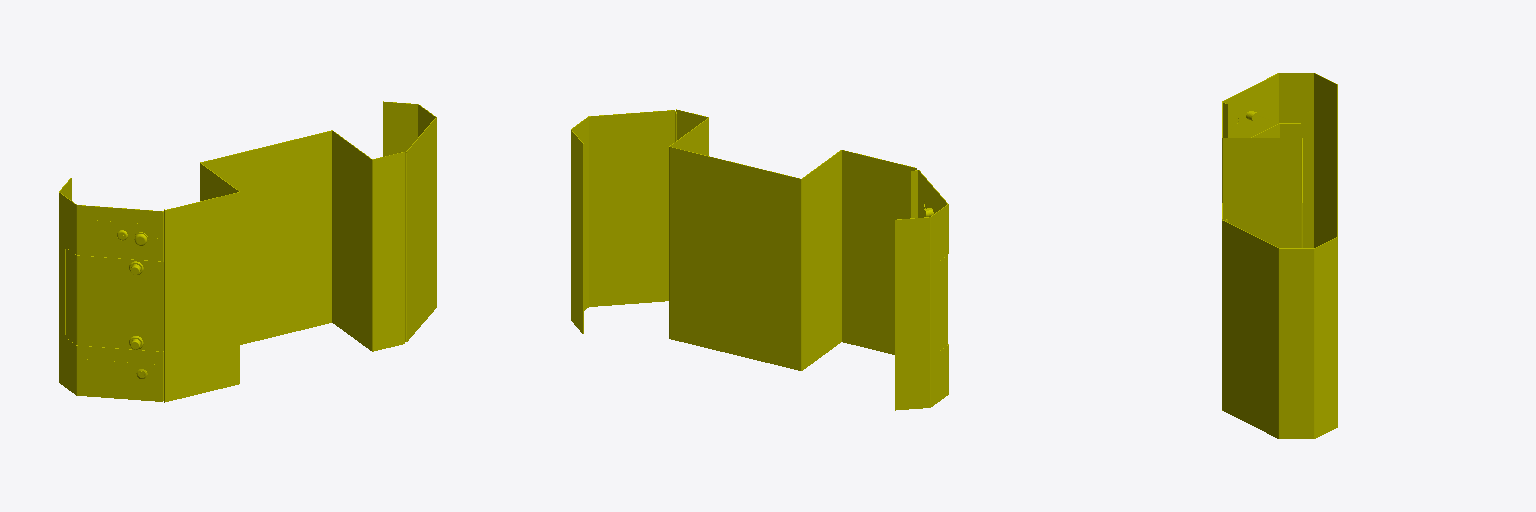
The model's file is top_chassis.obj.
The picture shows the model from 3 angles: view 1: azimuth 30°, elevation 25°; view 2: azimuth 150°, elevation 25°; view 3: azimuth 270°, elevation 25°; orthographic projection.
Visible parts, largest first — view 1: Top_Chassis_Top_Chassis.001; view 2: Top_Chassis_Top_Chassis.001; view 3: Top_Chassis_Top_Chassis.001.
Boxes of the visible parts, x1,y1,x2,y2 form: Top_Chassis_Top_Chassis.001: [59, 101, 436, 402]; Top_Chassis_Top_Chassis.001: [571, 109, 948, 410]; Top_Chassis_Top_Chassis.001: [1222, 73, 1337, 438].
Size of the model in its own units: 0.812 by 0.4137 by 0.2264.